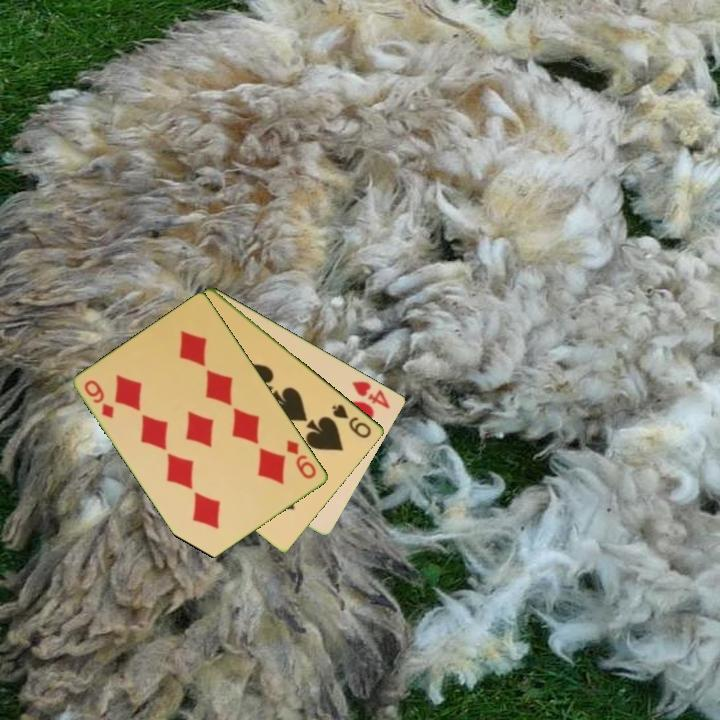4h: (349, 377, 394, 412)
9d: (283, 436, 320, 482), (81, 376, 118, 422)
9s: (328, 401, 375, 441)
